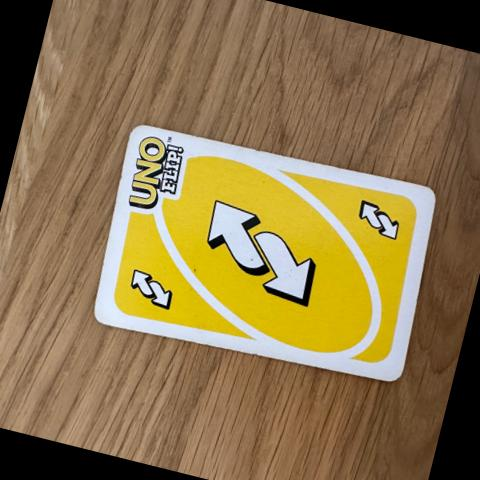draw2_yellow: (200, 198, 318, 306), (124, 262, 172, 315), (353, 199, 409, 241)
